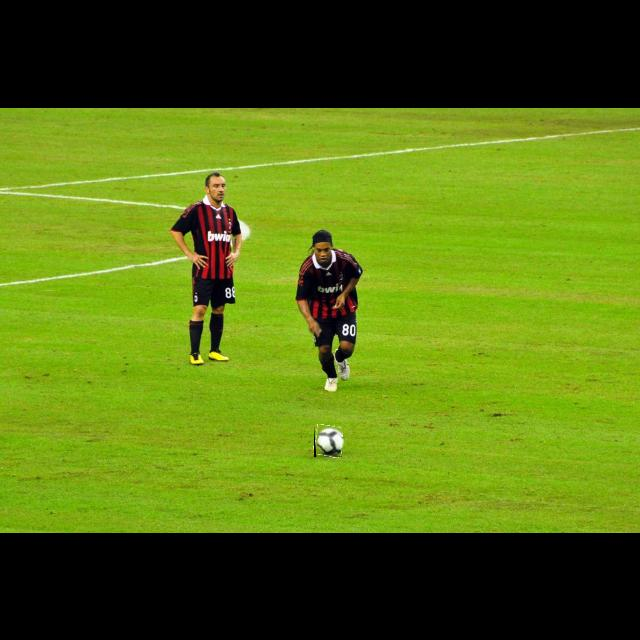Football: (314, 425, 342, 457)
